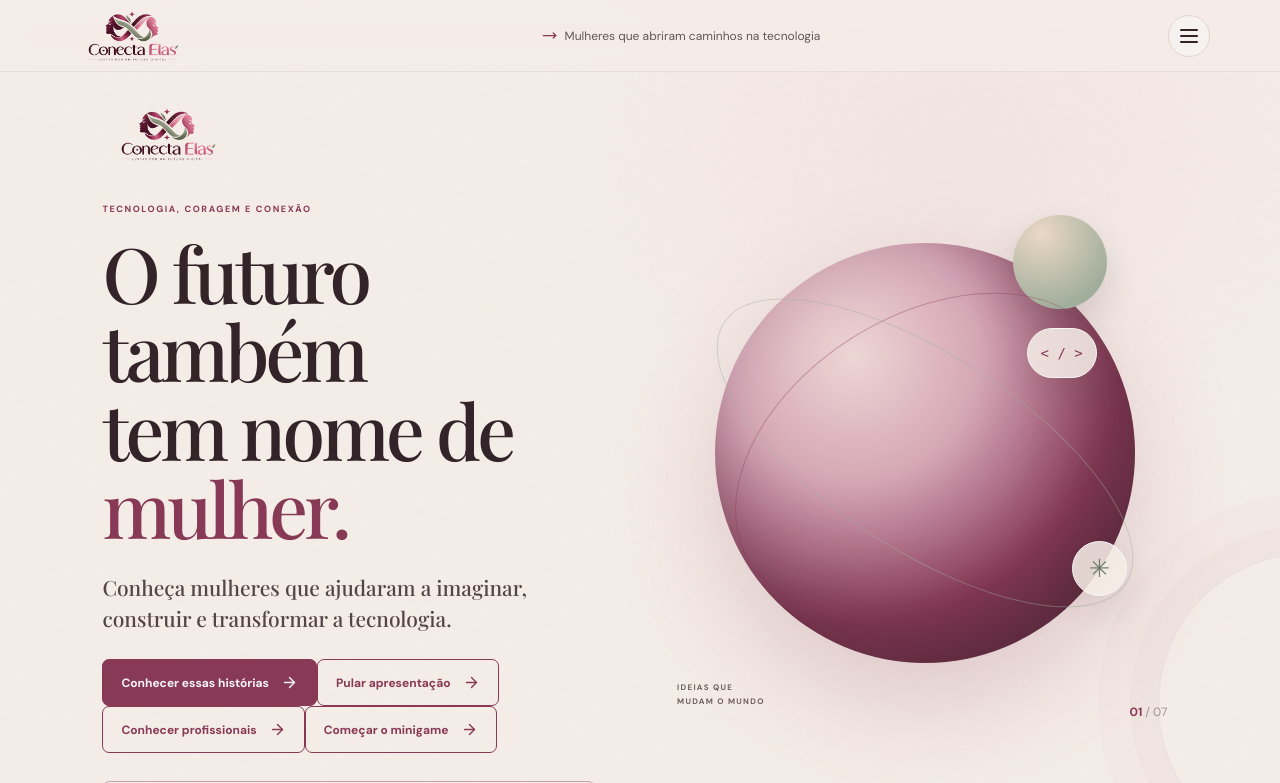
Test case: Conecta Elas story and platform › presents every narrative chapter before the independent platform
Expected: the heading "O futuro também" is shown, [102,221,512,558]
Press End
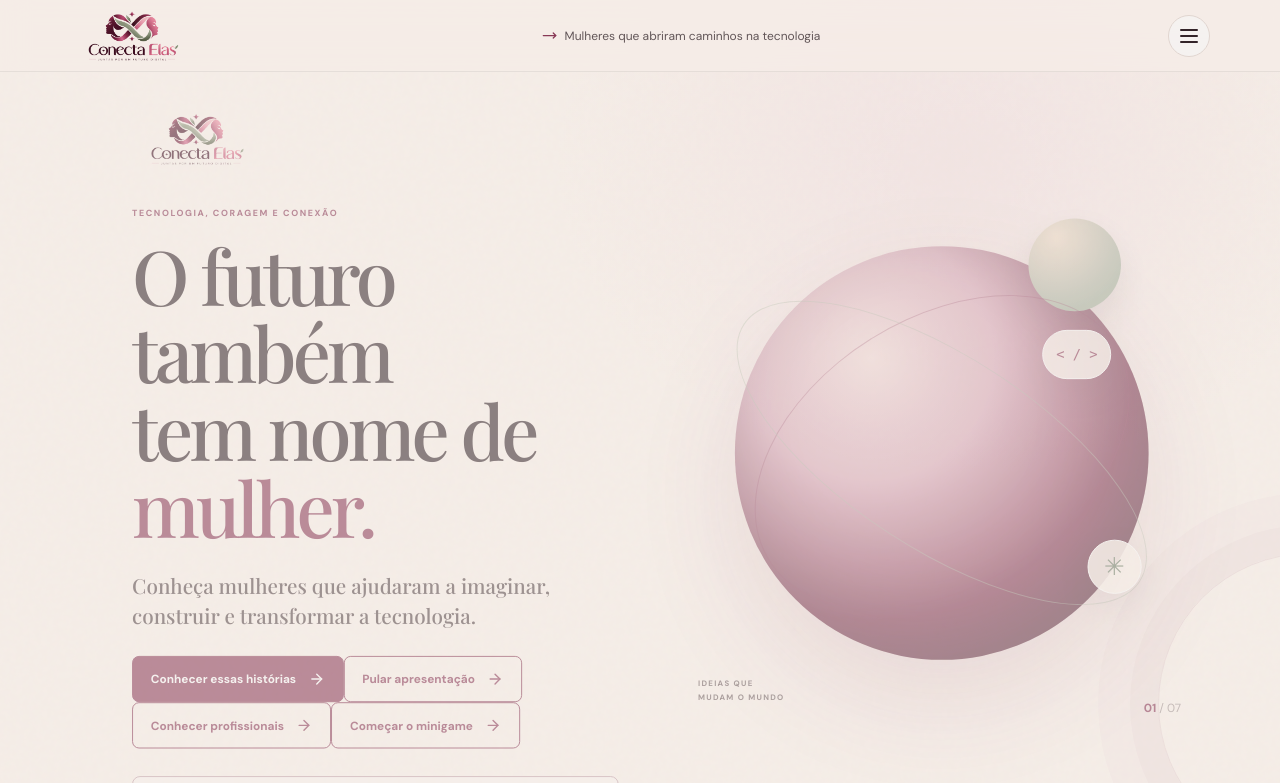
Click the button "Pular apresentação": x=433, y=679 [344,656,523,702]
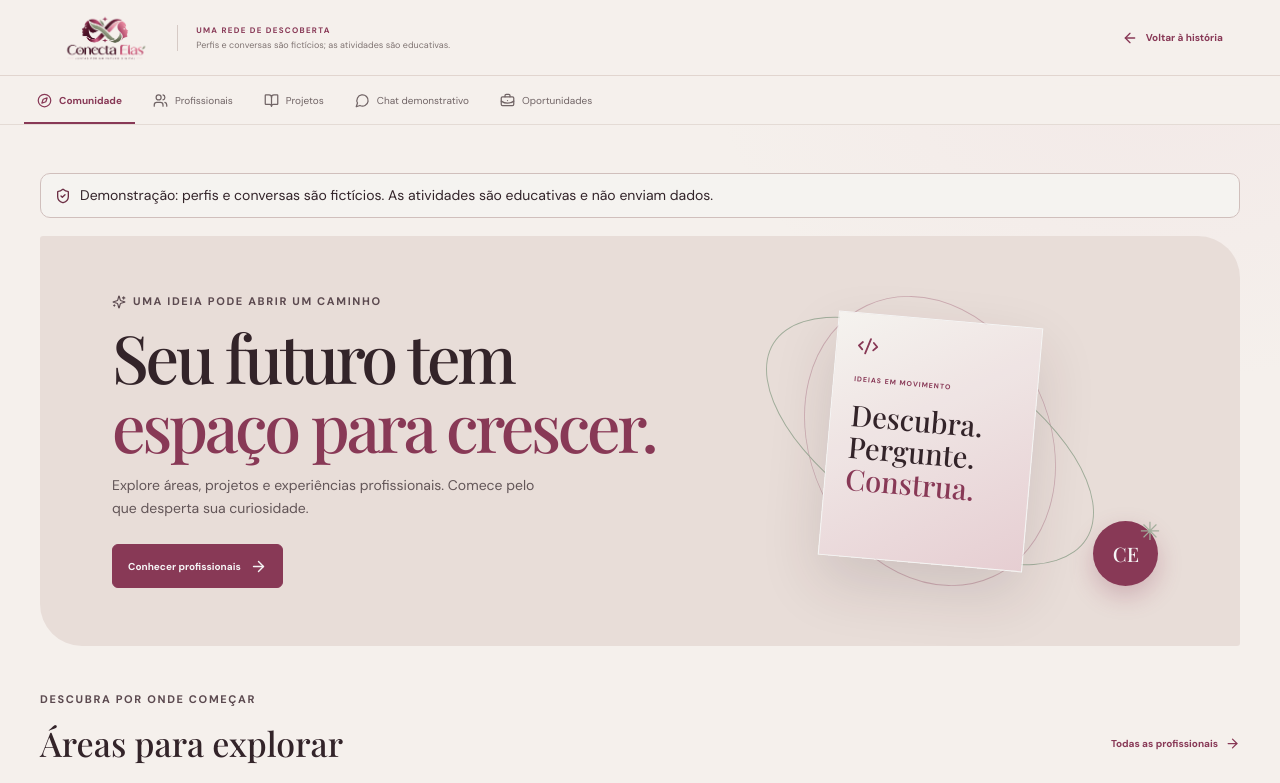
Expected: the navigation bar named "Navegação da plataforma" is shown, [24,76,605,124]
